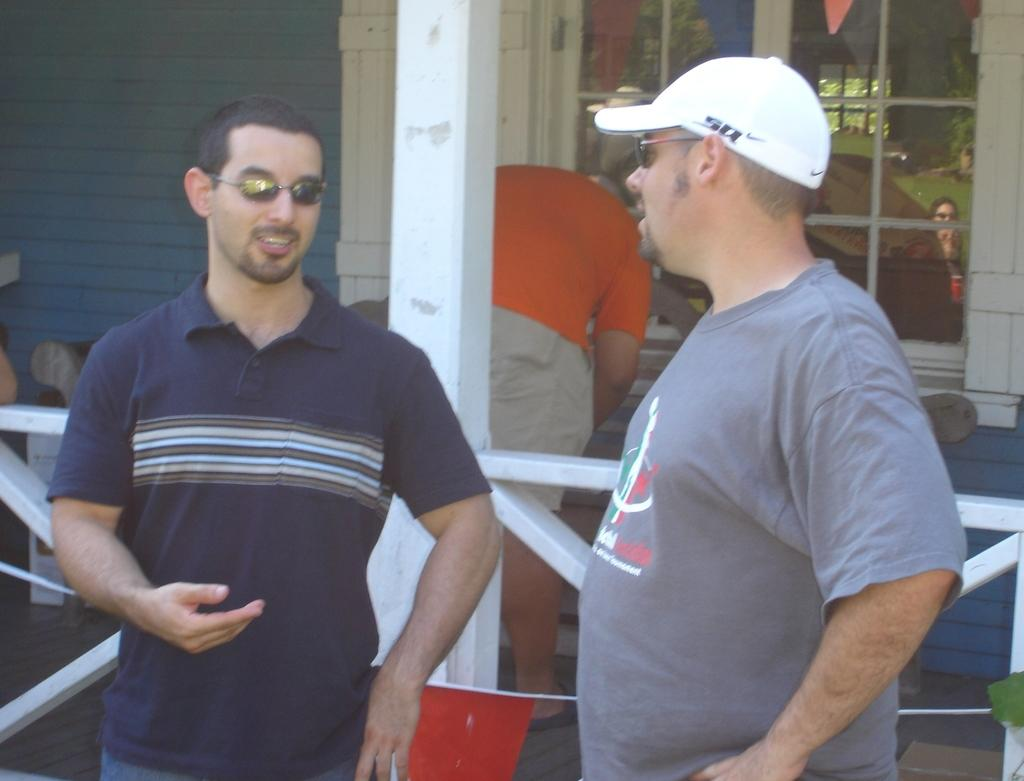Hat: (592, 53, 830, 188)
